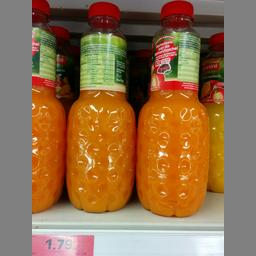juice: (134, 0, 210, 217), (65, 0, 135, 213)
